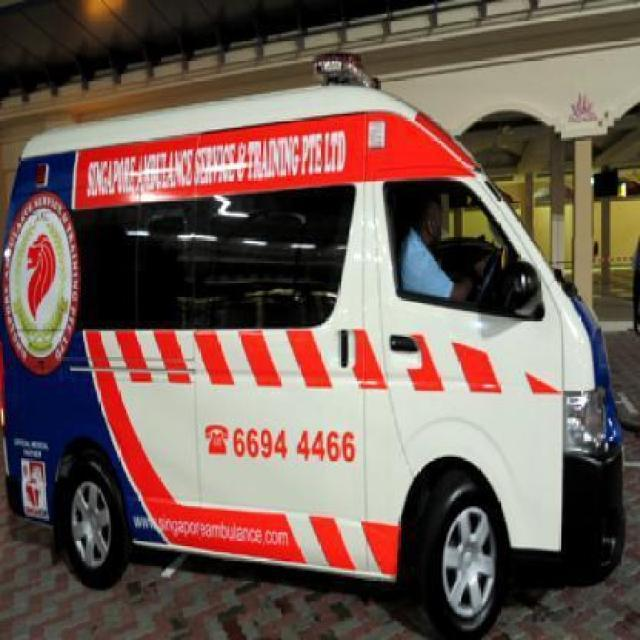emergency: (0, 50, 628, 638)
